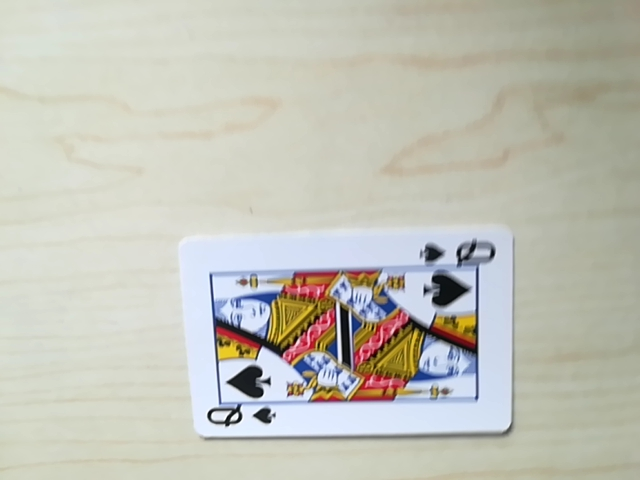ht q: (424, 230, 496, 270), (202, 398, 272, 432)
